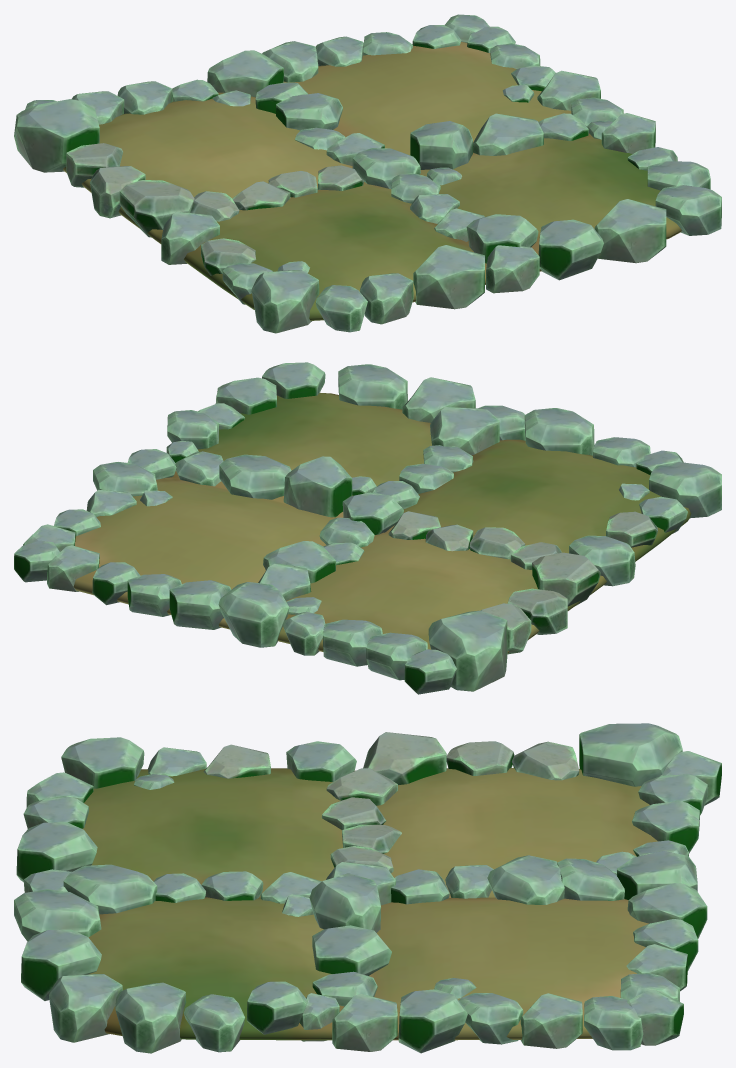
File: gardenPlot3-optimized.glb
3 renders of one model, top to bottom at view 1: azimuth 30°, elevation 25°; view 2: azimuth 150°, elevation 25°; view 3: azimuth 270°, elevation 25°, orthographic. The views are drawn at different scales.
Visible parts, largest first — view 1: Plot3, Cube.018, Cube.007, Cube.017, Cube.030, Cube.040, Cube.025, Cube.024, Cube.019, Cube.051, Cube.016, Cube.005 (+37 smaller); view 2: Plot3, Cube.018, Cube.051, Cube.019, Cube.030, Cube.007, Cube.008, Cube.017, Cube.025, Cube.016, Cube.048, Cube.033 (+38 smaller); view 3: Plot3, Cube.018, Cube.023, Cube.024, Cube.017, Cube.004, Cube.007, Cube.019, Cube.008, Cube.040, Cube.030, Cube.025 (+41 smaller).
Part boxes in pixels (bbox=[...]): Plot3: bbox=[63, 42, 681, 320]; Cube.018: bbox=[14, 99, 99, 172]; Cube.007: bbox=[413, 245, 484, 309]; Cube.017: bbox=[594, 199, 666, 263]; Cube.030: bbox=[251, 270, 319, 333]; Cube.040: bbox=[538, 219, 603, 280]; Cube.025: bbox=[119, 180, 194, 237]; Cube.024: bbox=[655, 185, 721, 235]; Cube.019: bbox=[410, 121, 472, 169]; Cube.051: bbox=[207, 50, 283, 97]; Cube.016: bbox=[473, 113, 543, 155]; Cube.005: bbox=[486, 245, 539, 293]; Plot3: bbox=[73, 392, 691, 653]; Cube.018: bbox=[428, 610, 507, 691]; Cube.051: bbox=[218, 582, 289, 647]; Cube.019: bbox=[283, 456, 352, 517]; Cube.030: bbox=[649, 462, 721, 518]; Cube.007: bbox=[524, 408, 594, 455]; Cube.008: bbox=[430, 407, 499, 455]; Cube.017: bbox=[338, 364, 407, 409]; Cube.025: bbox=[532, 552, 600, 606]; Cube.016: bbox=[219, 454, 291, 499]; Cube.048: bbox=[169, 580, 231, 629]; Cube.033: bbox=[569, 535, 635, 586]; Plot3: bbox=[82, 767, 657, 1040]; Cube.018: bbox=[579, 723, 682, 786]; Cube.023: bbox=[115, 982, 186, 1053]; Cube.024: bbox=[49, 974, 122, 1042]; Cube.017: bbox=[21, 929, 101, 1000]; Cube.004: bbox=[398, 989, 467, 1053]; Cube.007: bbox=[16, 822, 97, 882]; Cube.019: bbox=[309, 873, 381, 932]; Cube.008: bbox=[63, 864, 157, 914]; Cube.040: bbox=[14, 889, 101, 941]; Cube.030: bbox=[61, 737, 144, 788]; Cube.025: bbox=[363, 732, 446, 784].
Size of the model in its own units: 7.65 by 0.8562 by 7.94.
Materials: 2 (2 with a texture image).
